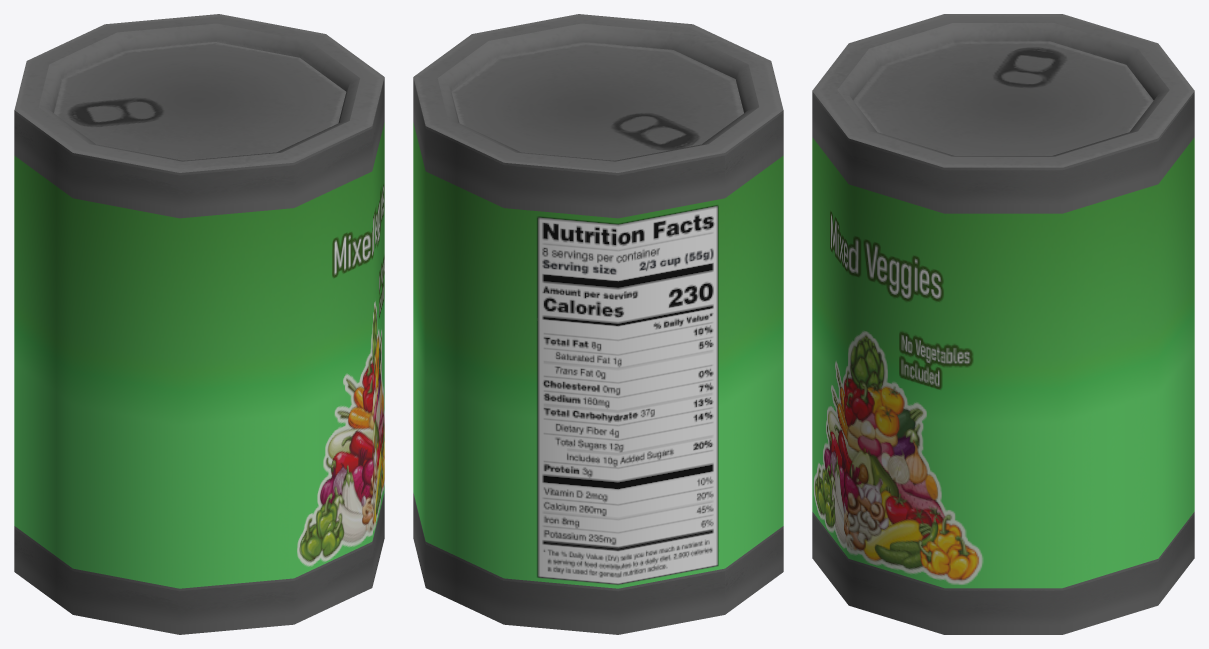
The model's file is Can_C.fbx.
3 views of the same model, side by side, from view 1: azimuth 30°, elevation 25°; view 2: azimuth 150°, elevation 25°; view 3: azimuth 270°, elevation 25° (orthographic).
Visible parts, largest first — view 1: Can_C; view 2: Can_C; view 3: Can_C.
Part boxes in pixels (<box>): Can_C: <box>14,14,384,634</box>; Can_C: <box>413,14,783,634</box>; Can_C: <box>812,14,1194,634</box>.
Bounding box in the file's own units: 0.133 × 0.1888 × 0.1399.
1 material, 1 textured.
